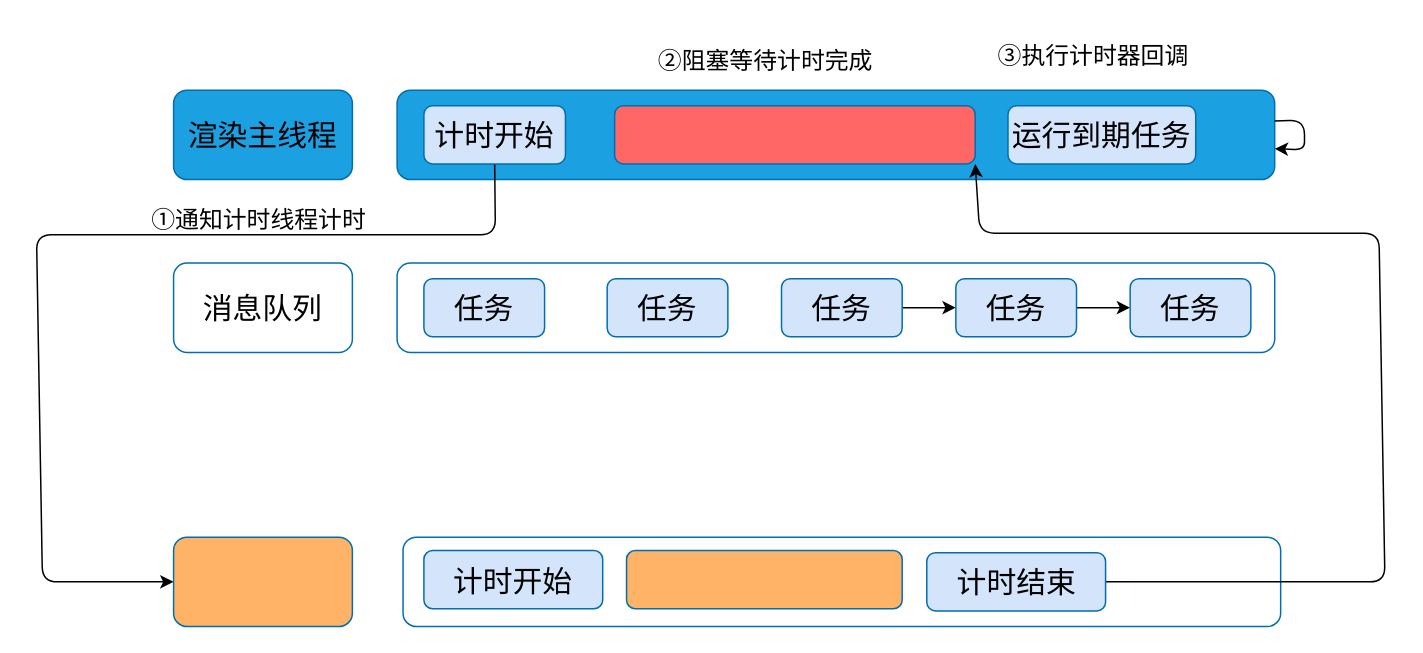
Some shapes in this 1423 by 653 pixel diagram are drawn without their labels. The shapes that lost their labels are listed below. From the top down, each one's box as (x1, y1, x2, y2) in pixels, then its label:
(613, 104, 975, 164): 阻塞
(172, 536, 352, 627): 计时线程
(625, 549, 902, 609): 计时中...
